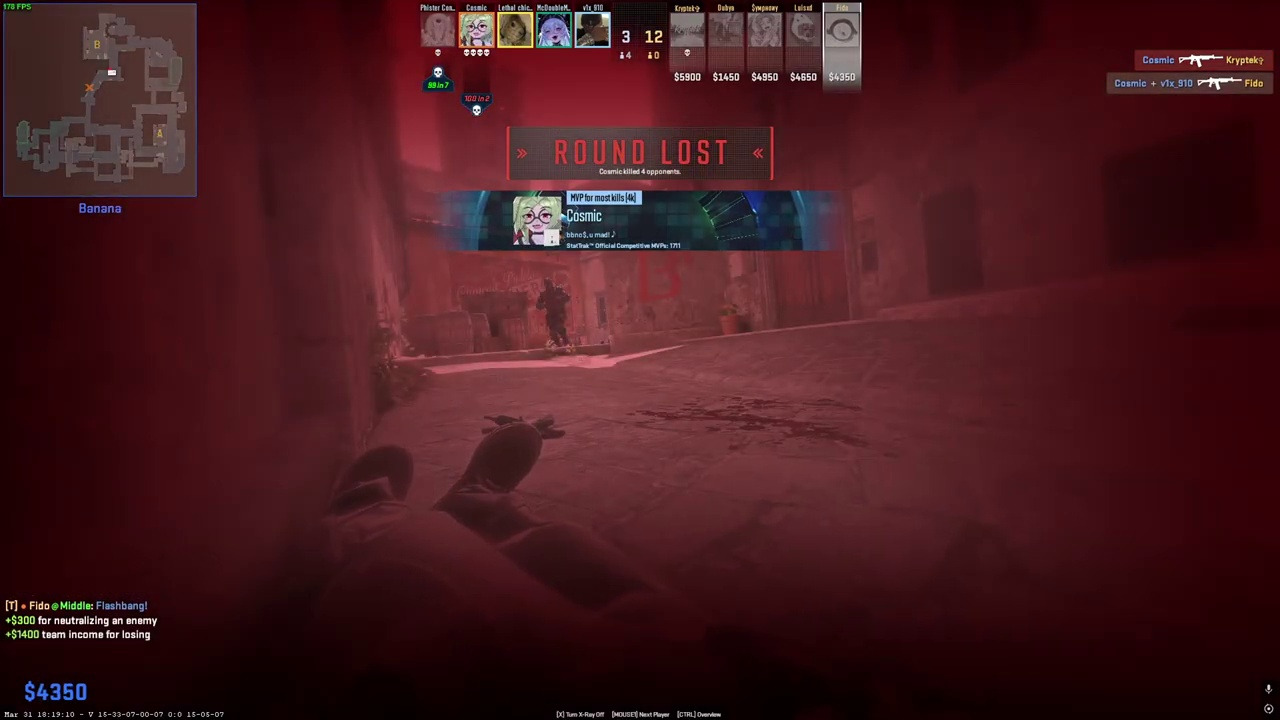CT: (541, 278, 572, 351)
